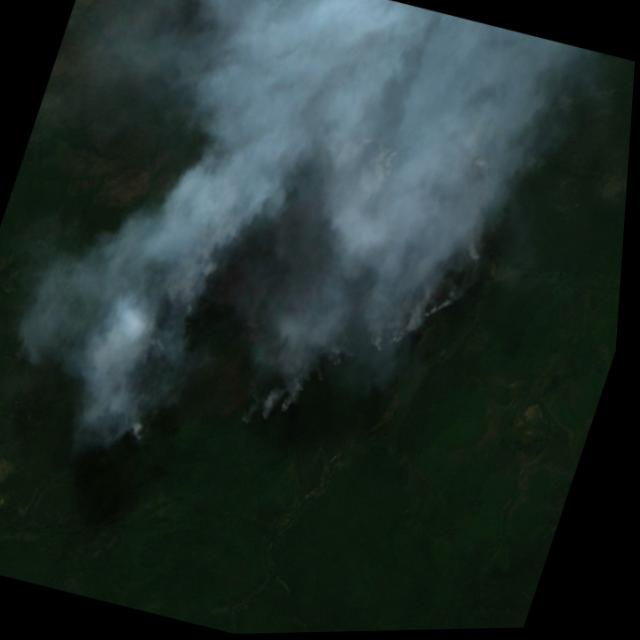fire: (81, 78, 521, 518)
